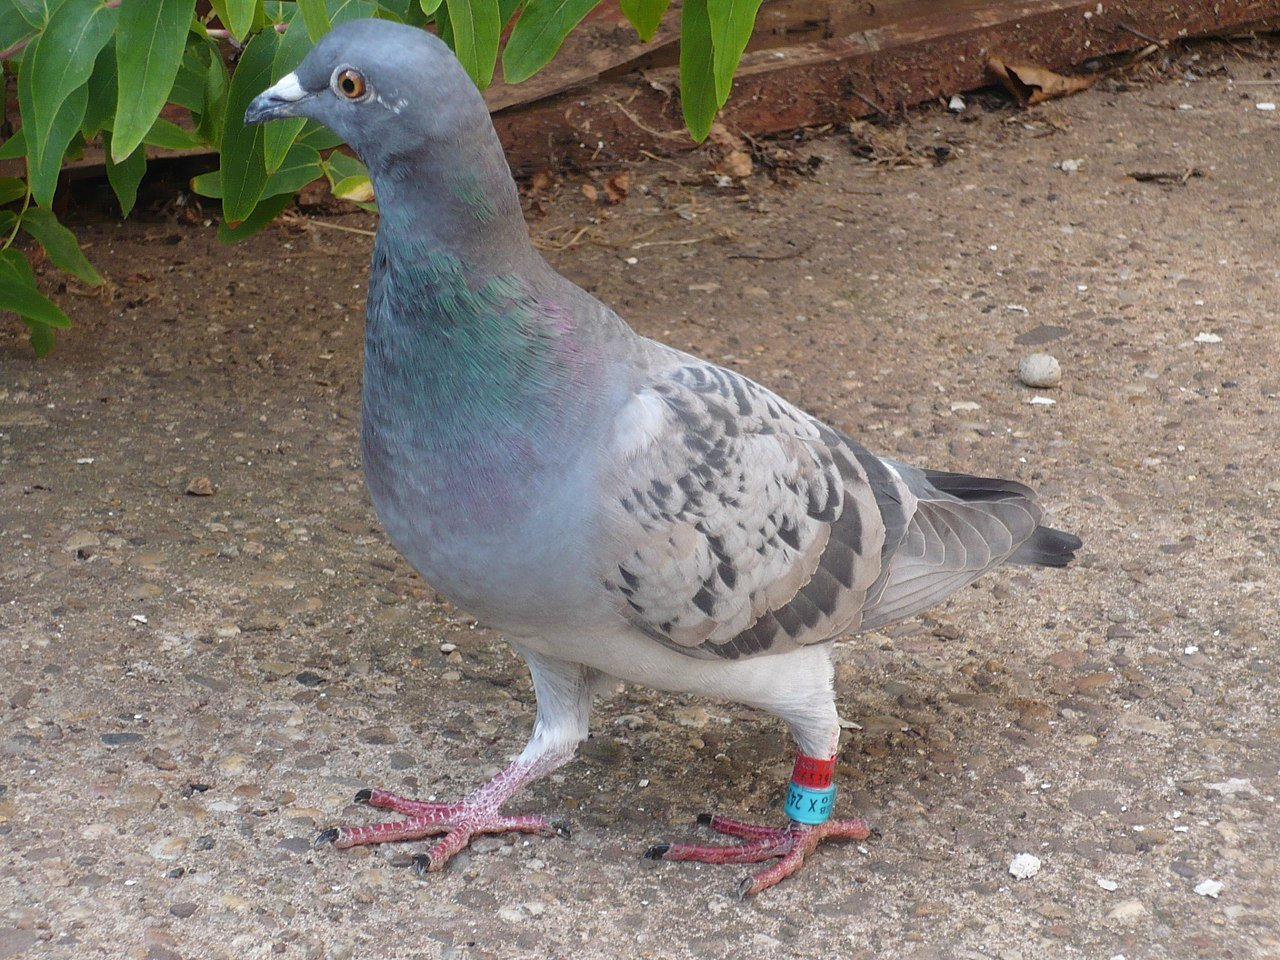pigeon: (234, 15, 1095, 899)
